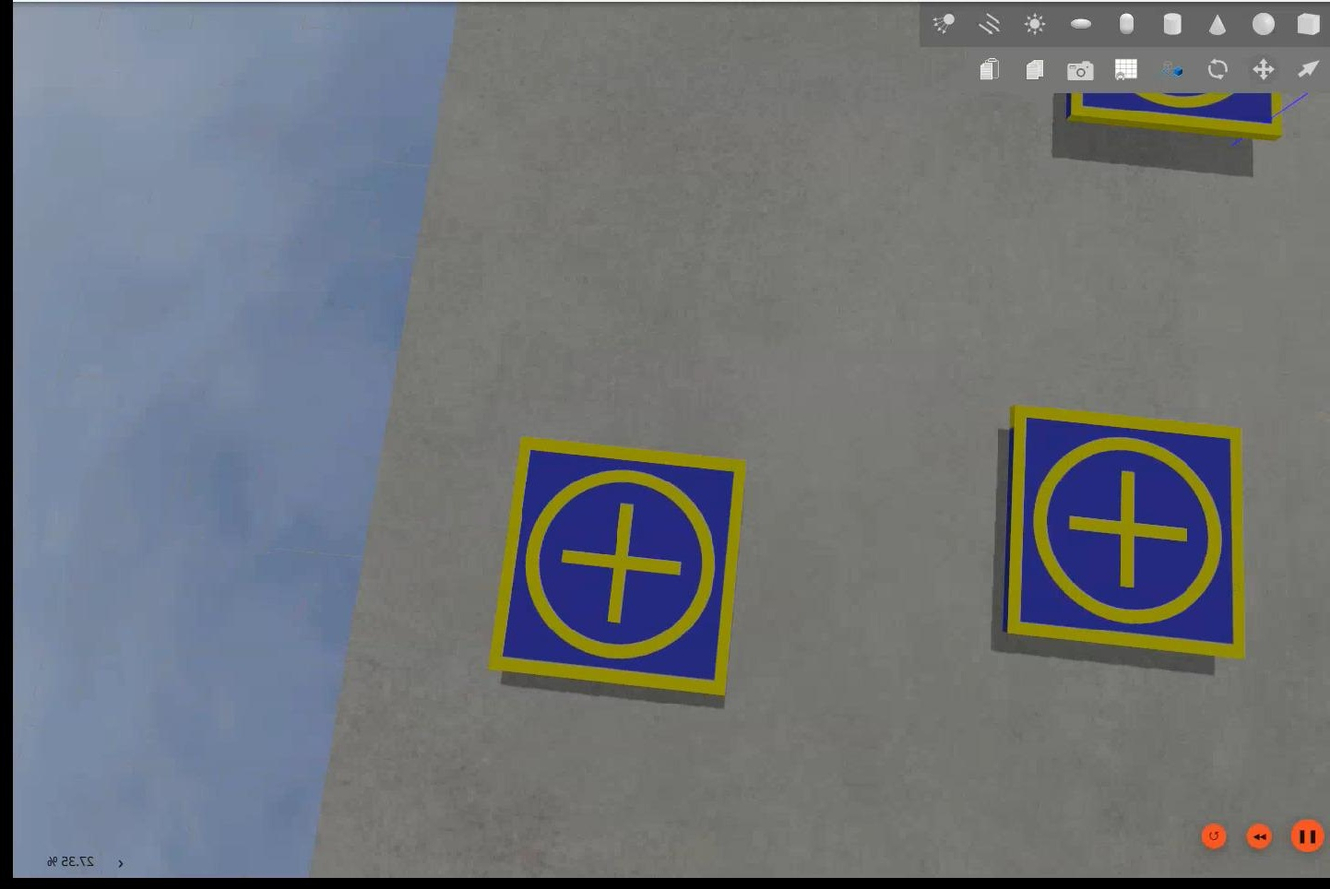small_base: (485, 439, 742, 695), (1003, 406, 1241, 660), (1061, 91, 1281, 138)
